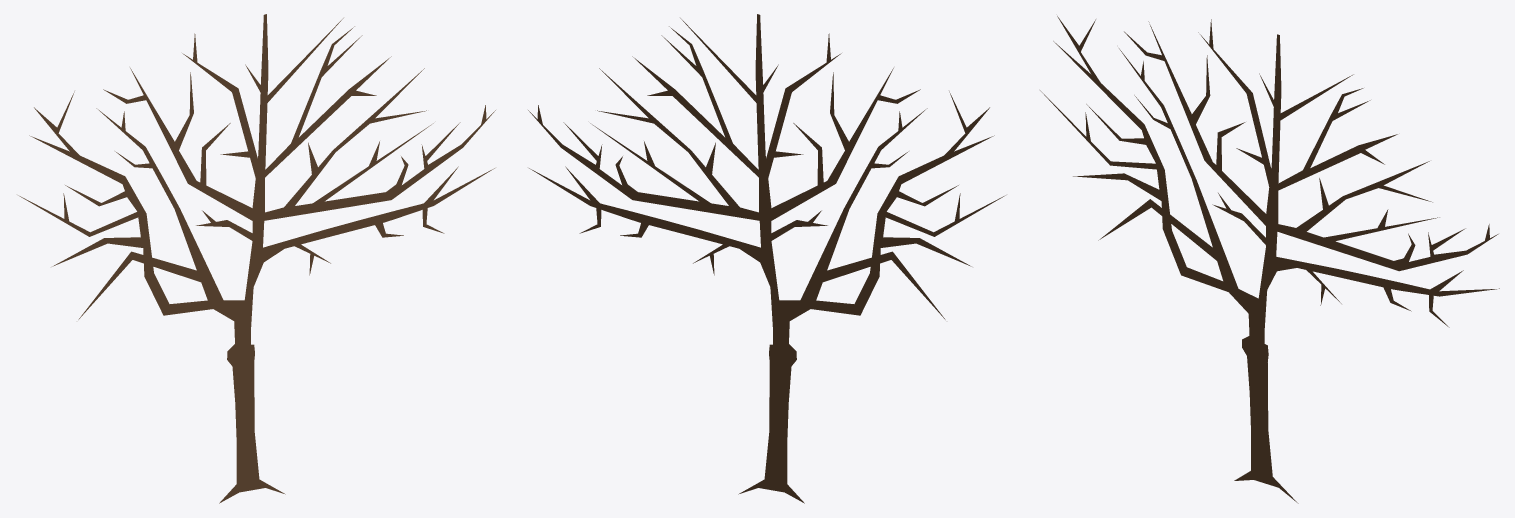
Rendered from OakTree_03.fbx.
3 views of the same model, side by side, from view 1: azimuth 30°, elevation 25°; view 2: azimuth 150°, elevation 25°; view 3: azimuth 330°, elevation 25° (orthographic). The views are drawn at different scales.
Parts seen in each view (by area): view 1: planarTrimmedSurface1; view 2: planarTrimmedSurface1; view 3: planarTrimmedSurface1.
Boxes of the visible parts, x1,y1,x2,y2 form: planarTrimmedSurface1: (18,14,495,503); planarTrimmedSurface1: (528,14,1005,503); planarTrimmedSurface1: (1040,16,1499,503).
Bounding box in the file's own units: 19.54 × 18.77 × 0.
Materials: 1 (1 with a texture image).
